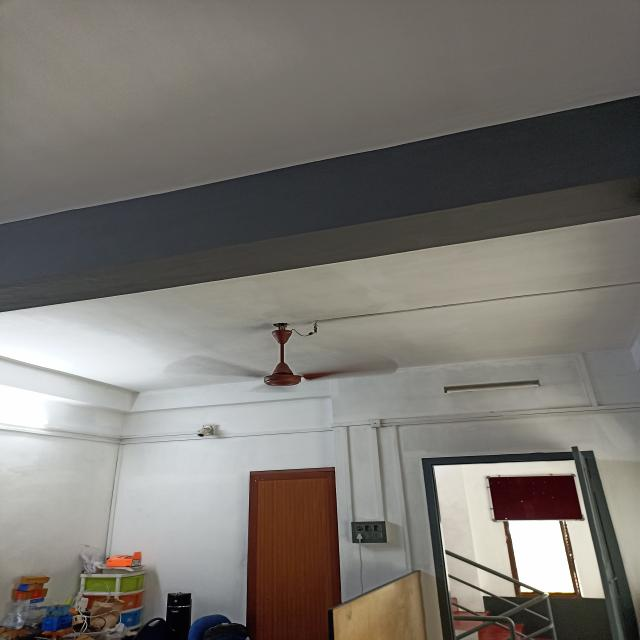fan: (163, 321, 398, 391)
light: (263, 322, 301, 386)
